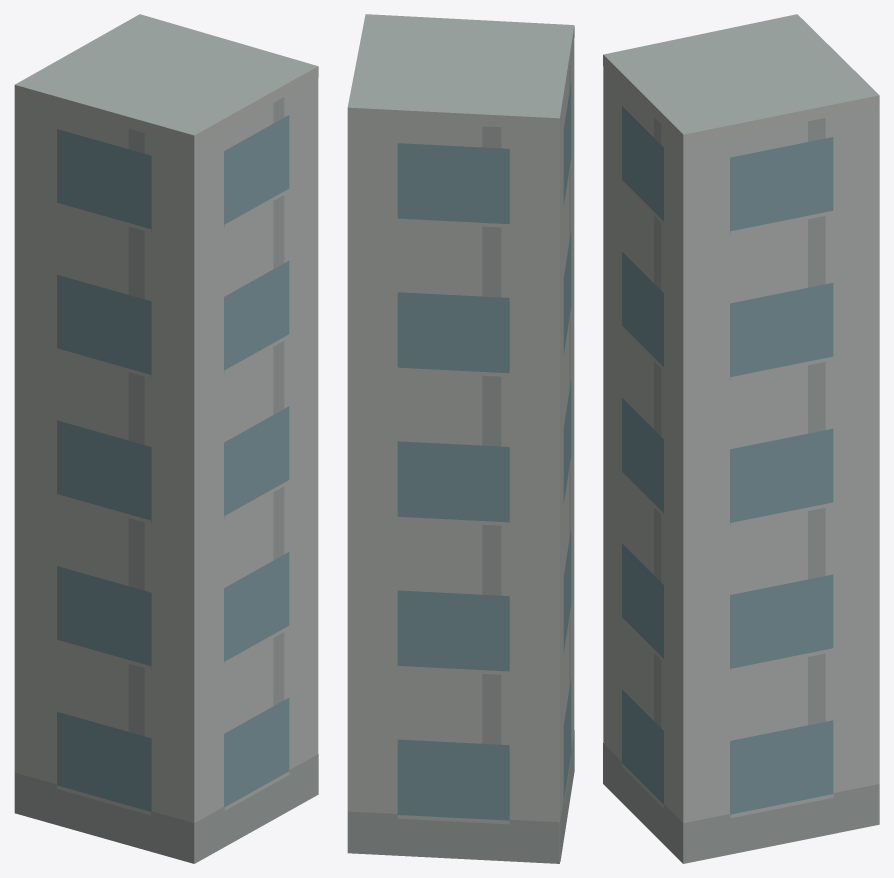
Rendered from survey-upis-32907008.glb.
3 renders of one model, left to right at view 1: azimuth 30°, elevation 25°; view 2: azimuth 150°, elevation 25°; view 3: azimuth 270°, elevation 25°, orthographic. The views are drawn at different scales.
Visible parts, largest first — view 1: survey-upis-32907008.tmp; view 2: survey-upis-32907008.tmp; view 3: survey-upis-32907008.tmp.
Boxes of the visible parts, x1,y1,x2,y2 form: survey-upis-32907008.tmp: [14, 14, 318, 863]; survey-upis-32907008.tmp: [347, 14, 574, 863]; survey-upis-32907008.tmp: [603, 14, 879, 863].
Bounding box in the file's own units: 5.42 × 15.25 × 5.25.
